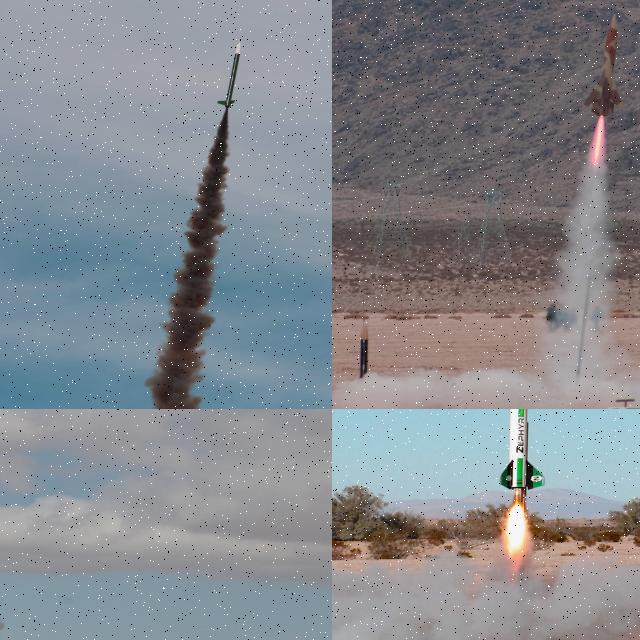Rocket: (581, 13, 625, 118), (497, 409, 546, 491), (216, 42, 242, 108), (358, 322, 368, 379)
